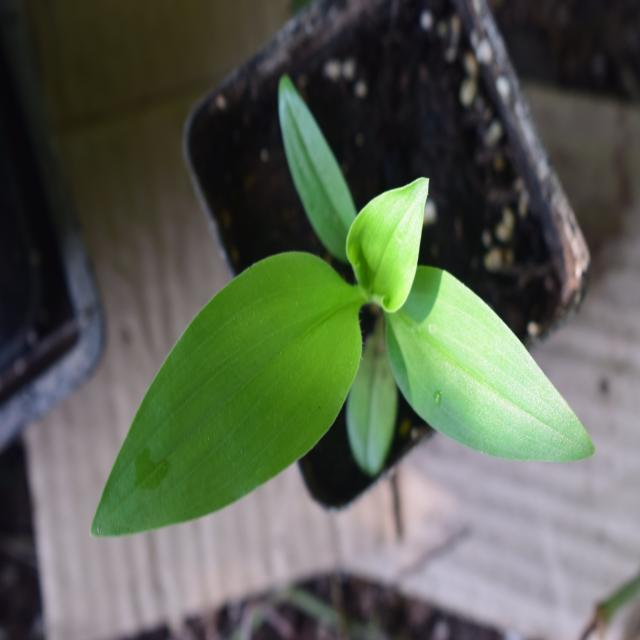Common Dayflower: (109, 154, 585, 542)
